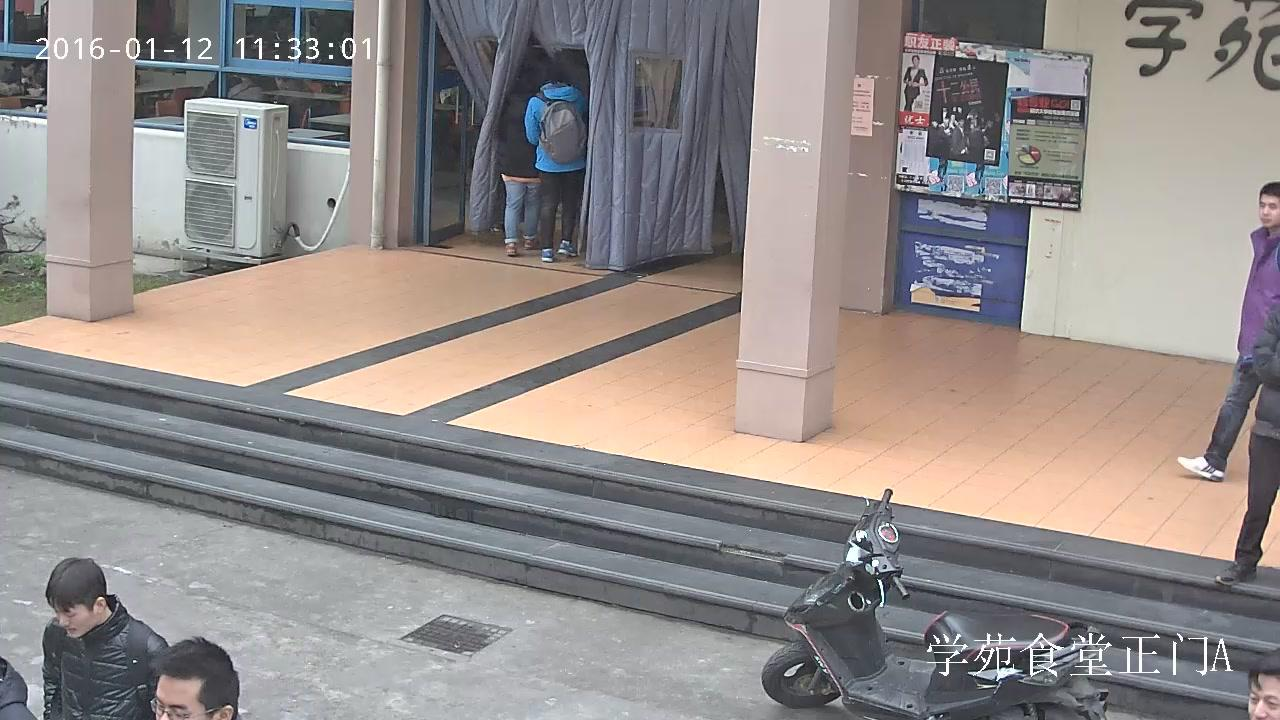person: (1177, 179, 1280, 480), (42, 558, 177, 720), (1215, 300, 1280, 584), (524, 61, 587, 262), (493, 64, 544, 255), (0, 57, 42, 97), (902, 55, 929, 112), (225, 73, 269, 102)
